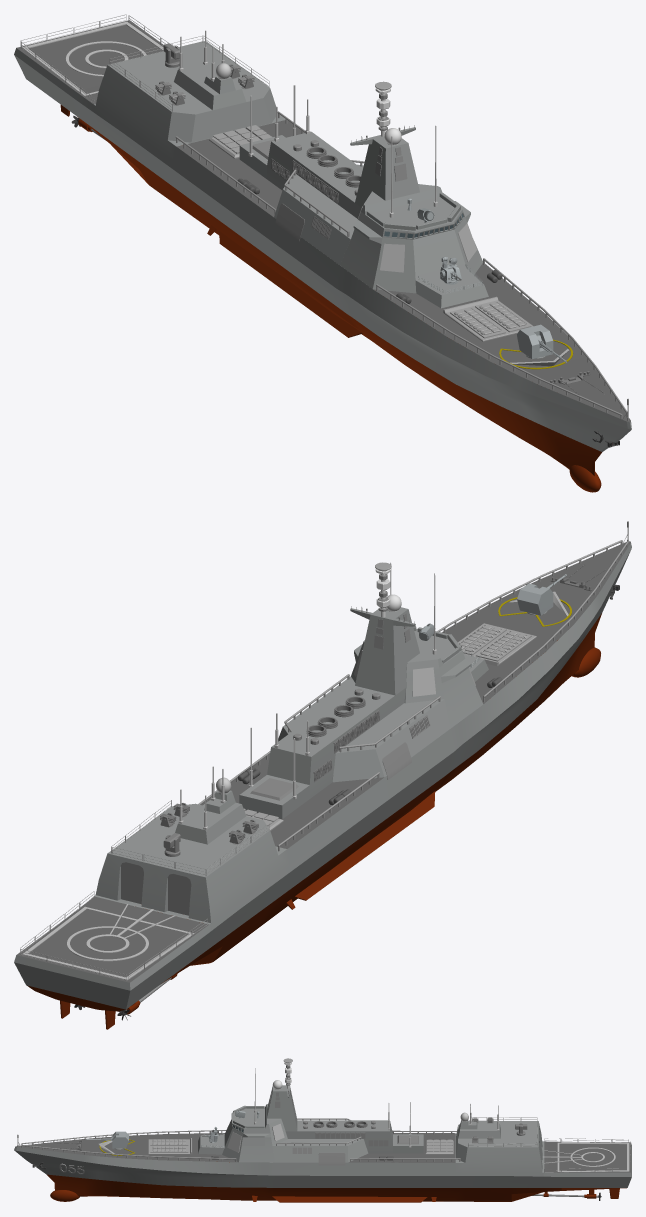
File: 055quzhujian.glb
The picture shows the model from 3 angles, top to bottom: view 1: azimuth 30°, elevation 25°; view 2: azimuth 150°, elevation 25°; view 3: azimuth 270°, elevation 25°; orthographic projection. The views are drawn at different scales.
Visible parts, largest first — view 1: polySurface1390; view 2: polySurface1390; view 3: polySurface1390.
Part boxes in pixels (bbox=[...]): polySurface1390: bbox=[14, 14, 631, 492]; polySurface1390: bbox=[14, 521, 631, 1029]; polySurface1390: bbox=[14, 1058, 631, 1202].
Bounding box in the file's own units: 23.33 × 48.49 × 192.
